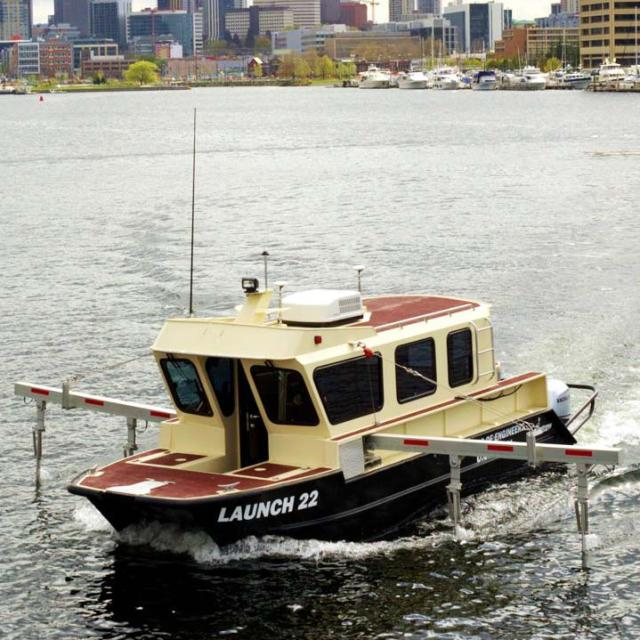houseboat: (82, 266, 578, 537)
